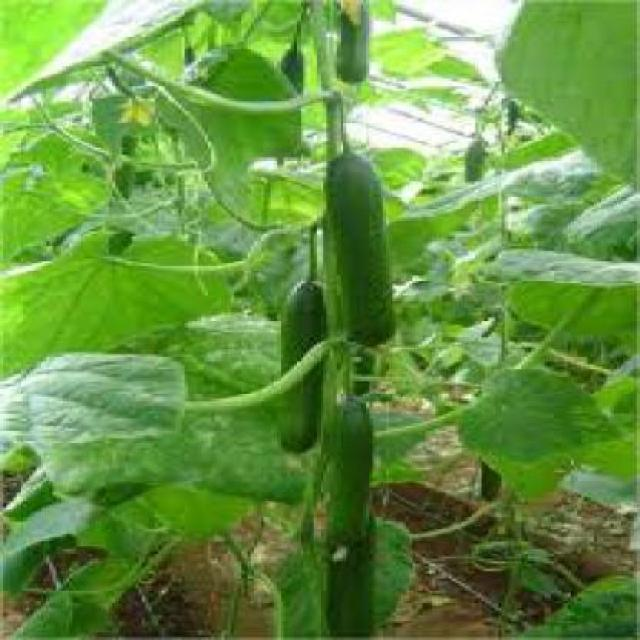BIODEGRADABLE: (495, 0, 638, 195), (0, 352, 182, 448), (495, 248, 637, 346), (323, 150, 389, 342), (327, 393, 373, 638), (273, 278, 330, 460), (102, 113, 126, 261), (332, 0, 363, 78), (277, 46, 297, 143), (476, 448, 502, 509), (182, 44, 198, 76)
